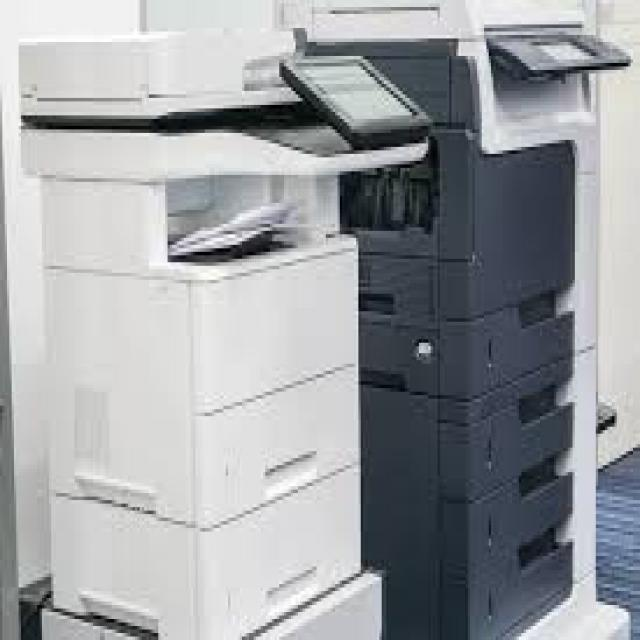printer: (263, 6, 640, 634), (10, 10, 383, 640)
